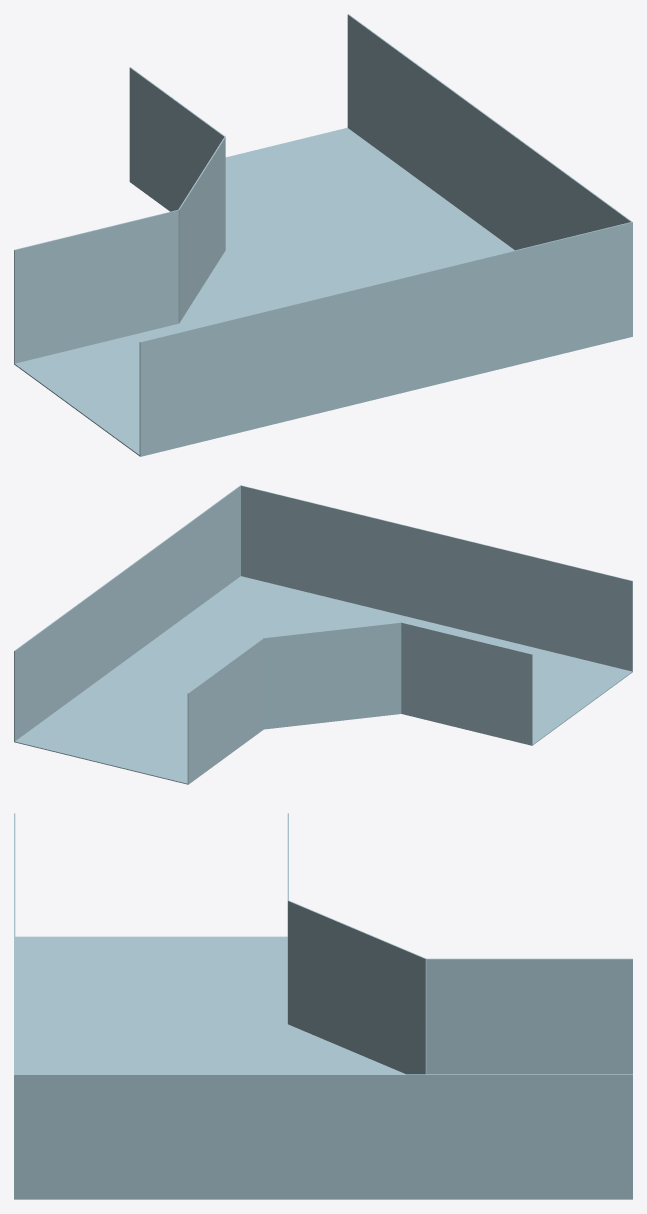
The picture shows the model from 3 angles, top to bottom: view 1: azimuth 30°, elevation 25°; view 2: azimuth 150°, elevation 25°; view 3: azimuth 270°, elevation 25°; orthographic projection. The views are drawn at different scales.
Parts seen in each view (by area): view 1: L1-C08; view 2: L1-C08; view 3: L1-C08.
Boxes of the visible parts, x1,y1,x2,y2 form: L1-C08: [14, 14, 632, 456]; L1-C08: [14, 485, 632, 784]; L1-C08: [14, 813, 632, 1199].
Size of the model in its own units: 0.9 by 0.2 by 0.9.
